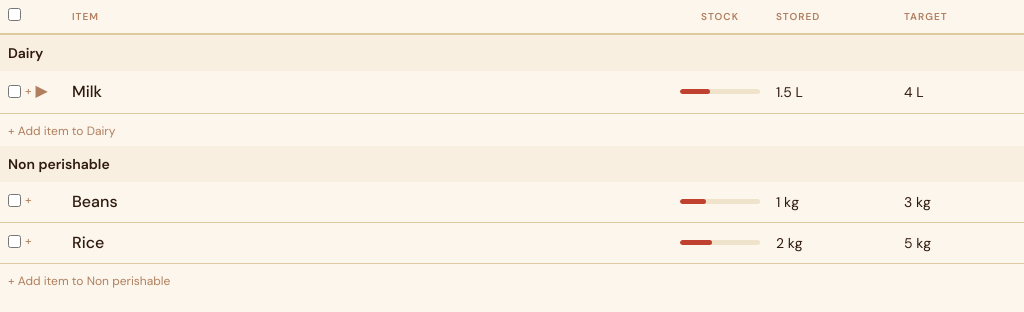
Test: InventoryTable › checkbox select + per-row trash icon › select-all header checkbox selects all visible items
Expected: the text "Rice" is shown, [72,232,104,252]
Step 1. Click the checkbox named "Select all items" → (14, 14), box [8,8,21,21]
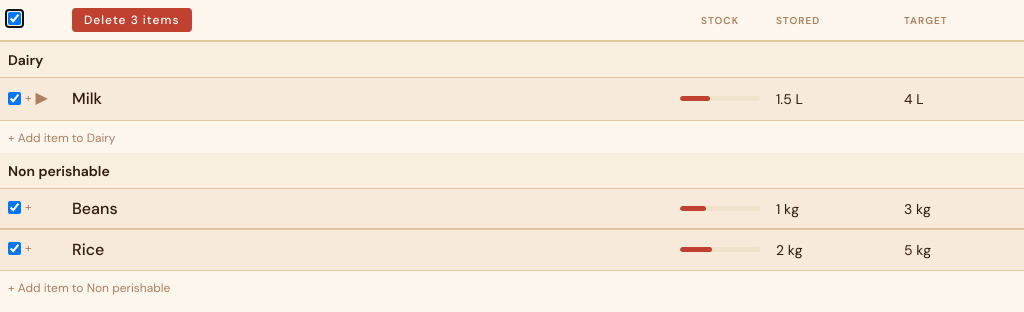
Expected: the button "Delete 3 items" is shown, [72,8,192,32]
